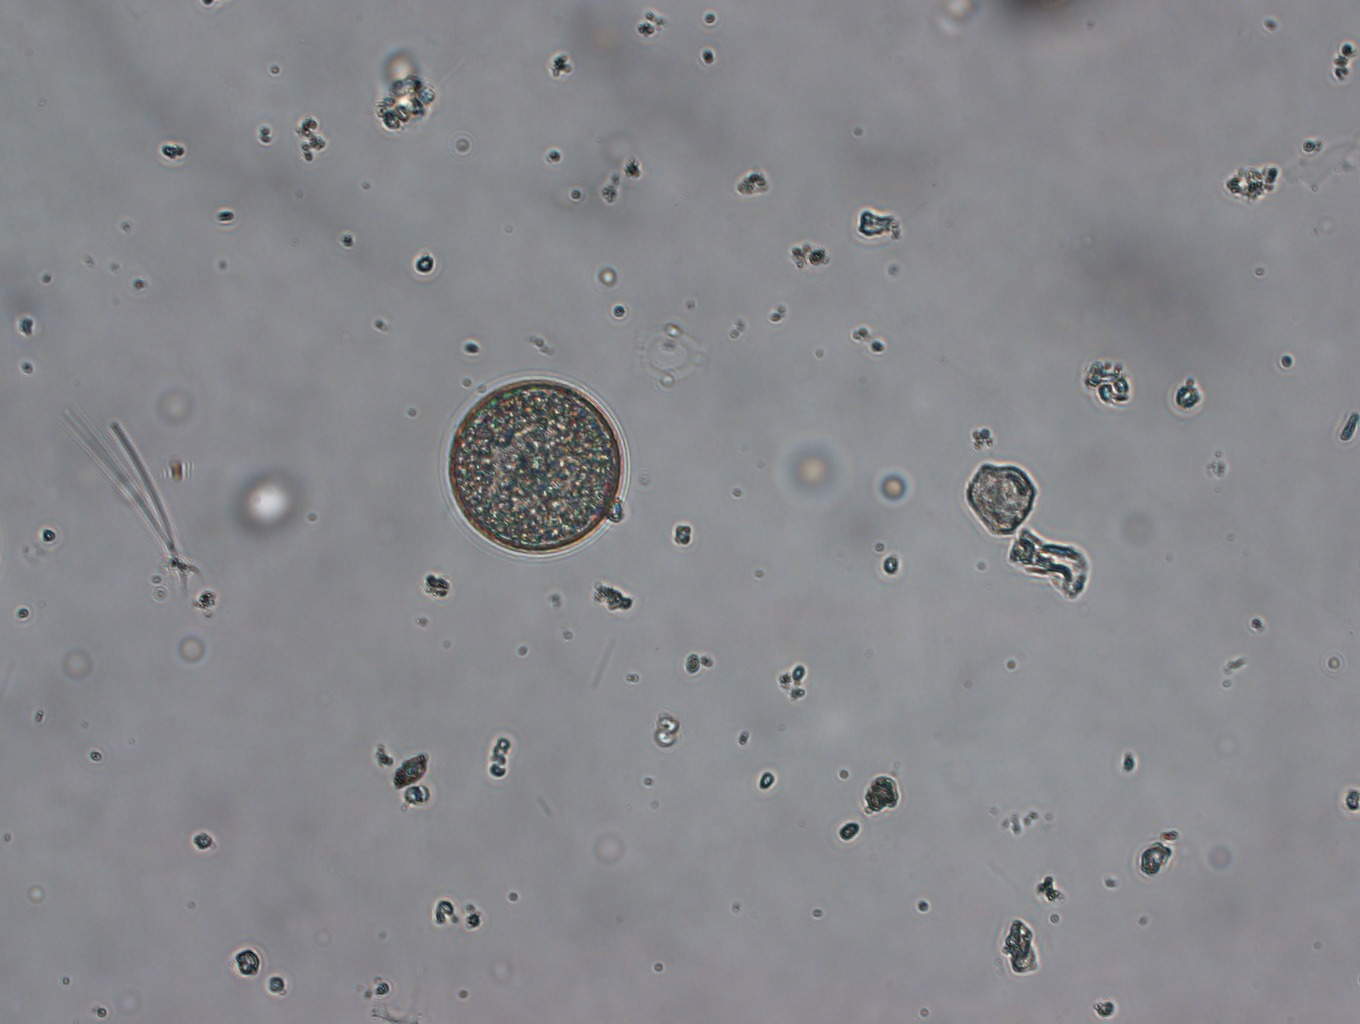coscinodiscus: (445, 375, 626, 553)
